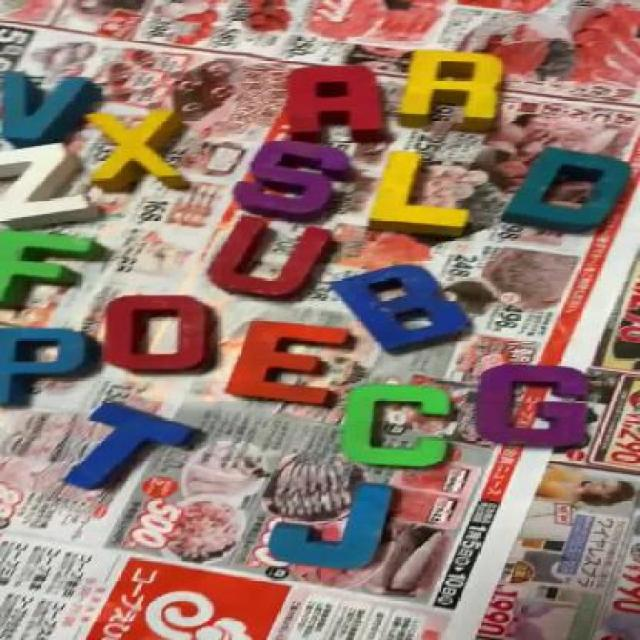A: (290, 63, 387, 142)
B: (340, 264, 469, 350)
C: (338, 382, 452, 466)
D: (513, 148, 629, 234)
E: (232, 322, 352, 406)
F: (0, 234, 91, 304)
G: (477, 364, 588, 445)
J: (280, 487, 398, 568)
L: (370, 154, 475, 238)
O: (106, 294, 217, 372)
P: (0, 326, 88, 403)
R: (397, 48, 506, 121)
S: (238, 142, 353, 220)
T: (62, 403, 200, 491)
U: (213, 217, 330, 295)
V: (0, 71, 91, 140)
X: (88, 110, 183, 190)
Z: (0, 145, 103, 229)
